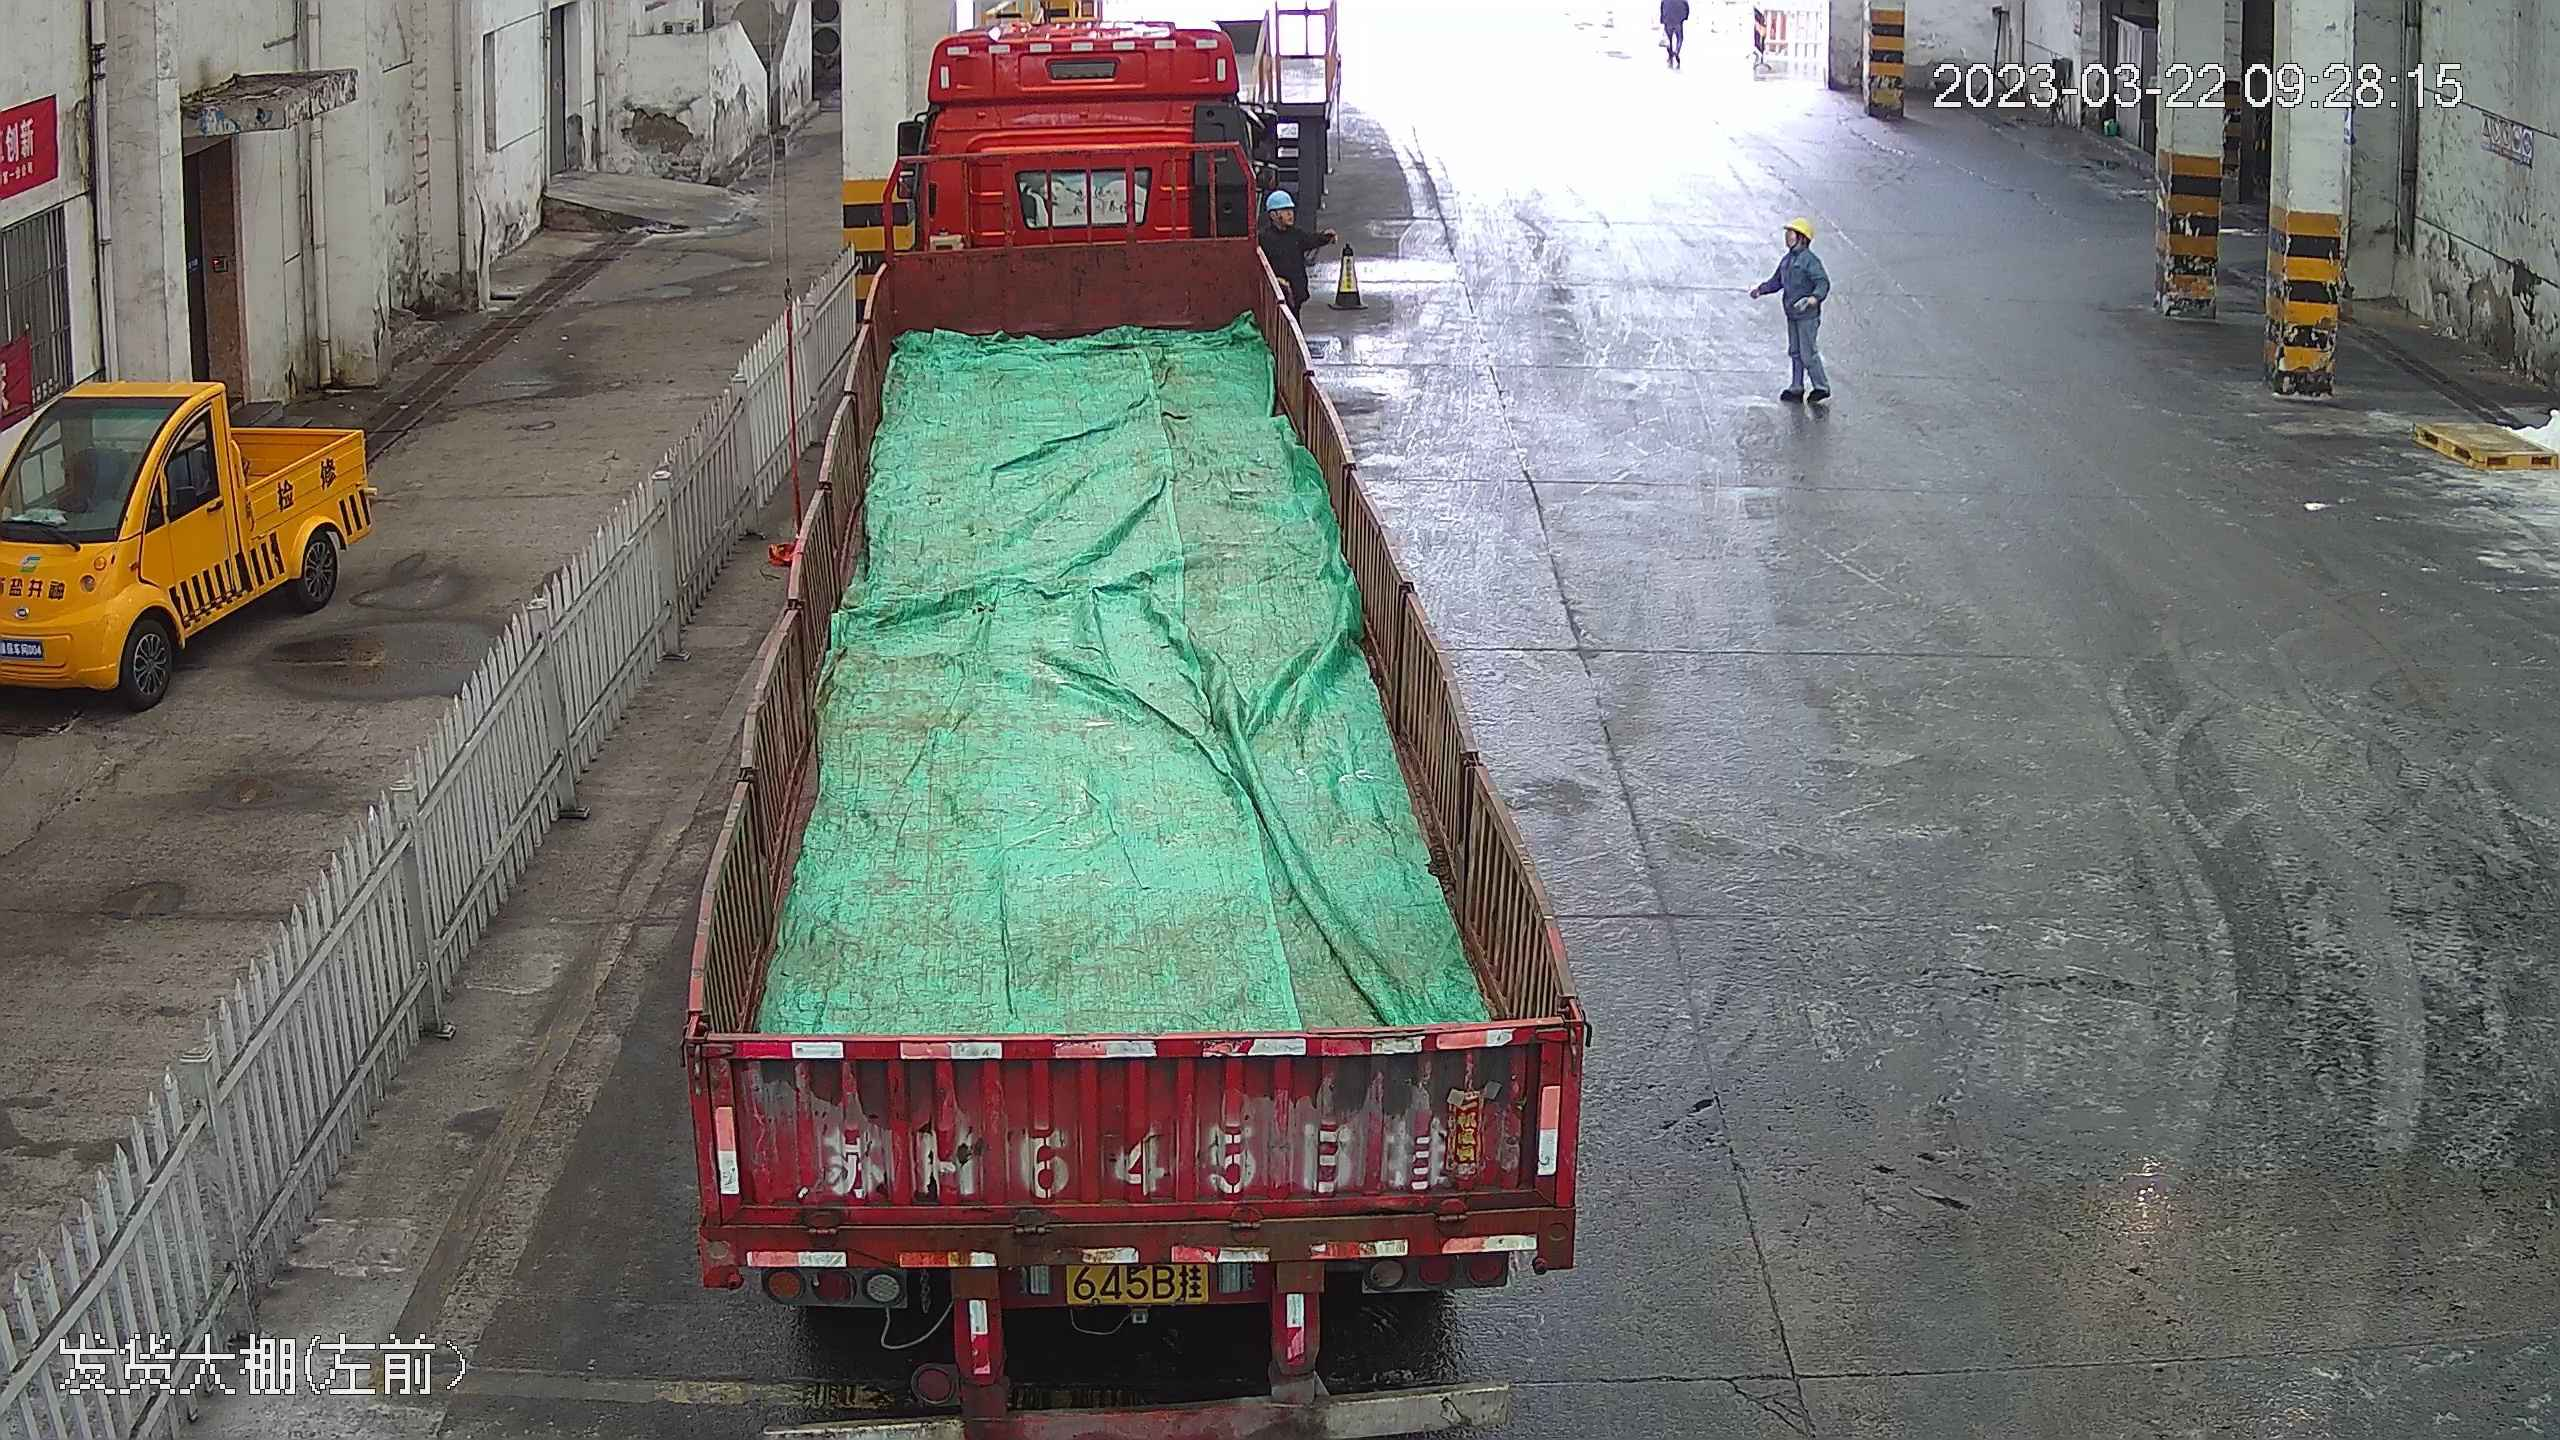head: (1773, 213, 1826, 273)
helmet: (1785, 215, 1817, 241)
people: (1749, 212, 1838, 418)
truck: (668, 2, 1630, 1439)
